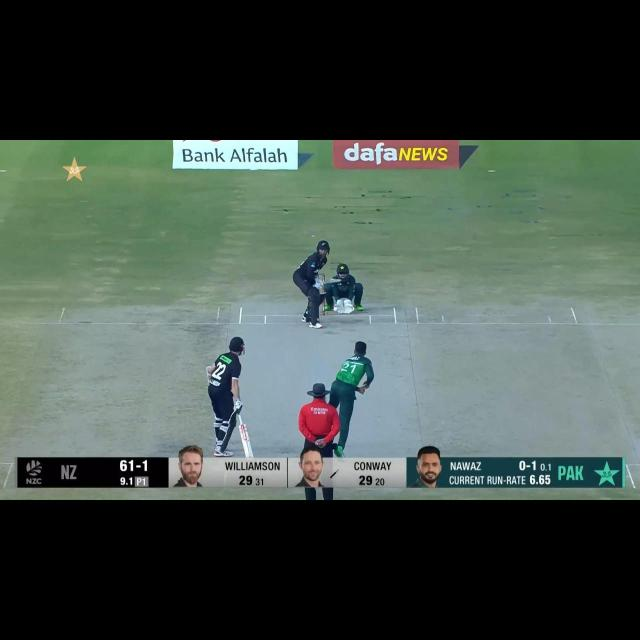bat: (236, 423, 258, 463), (317, 276, 343, 288)
toe: (334, 276, 342, 284), (245, 451, 255, 457)
